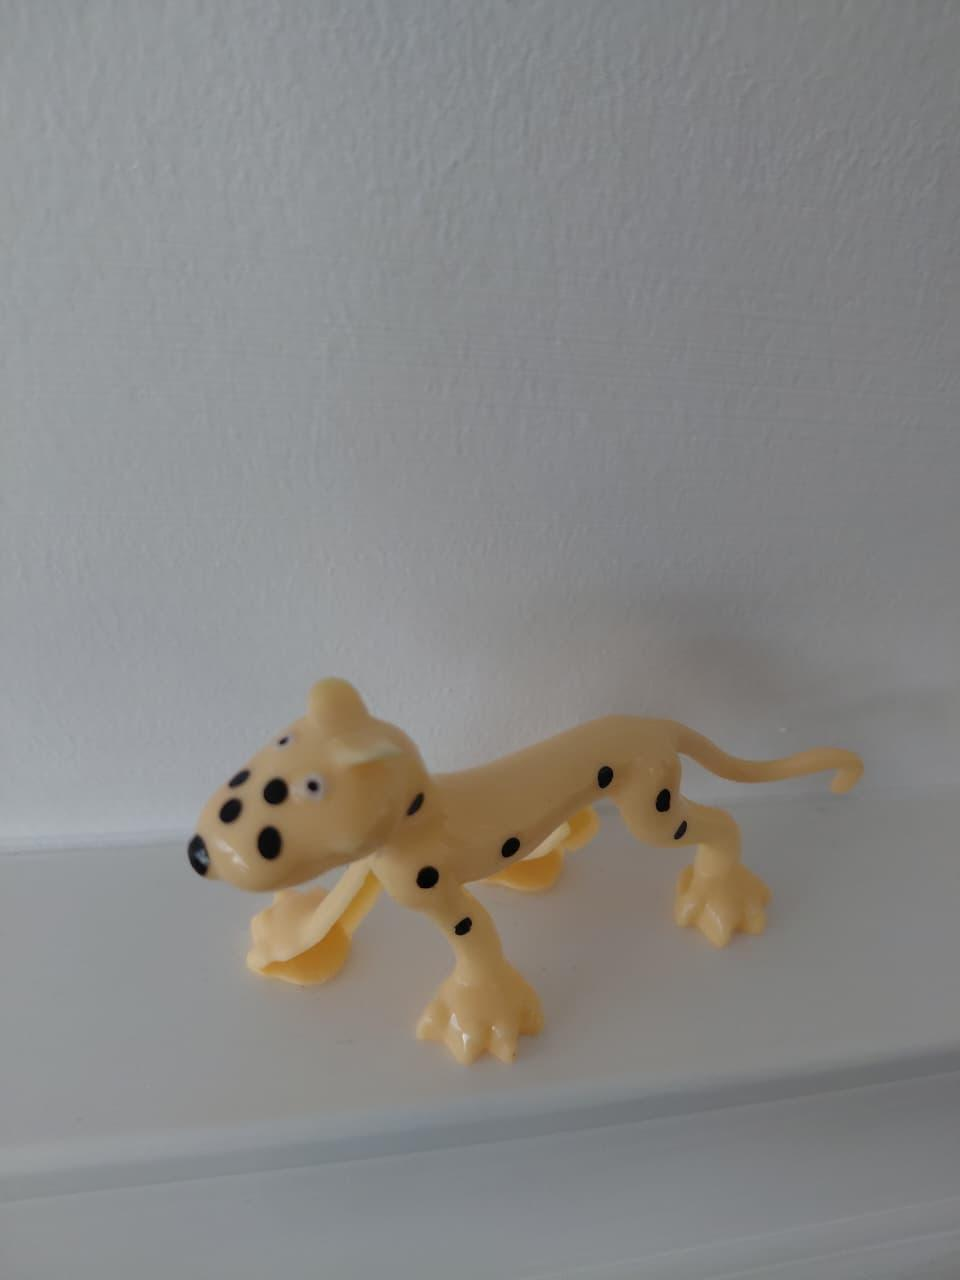cheetah: (155, 665, 876, 1099)
